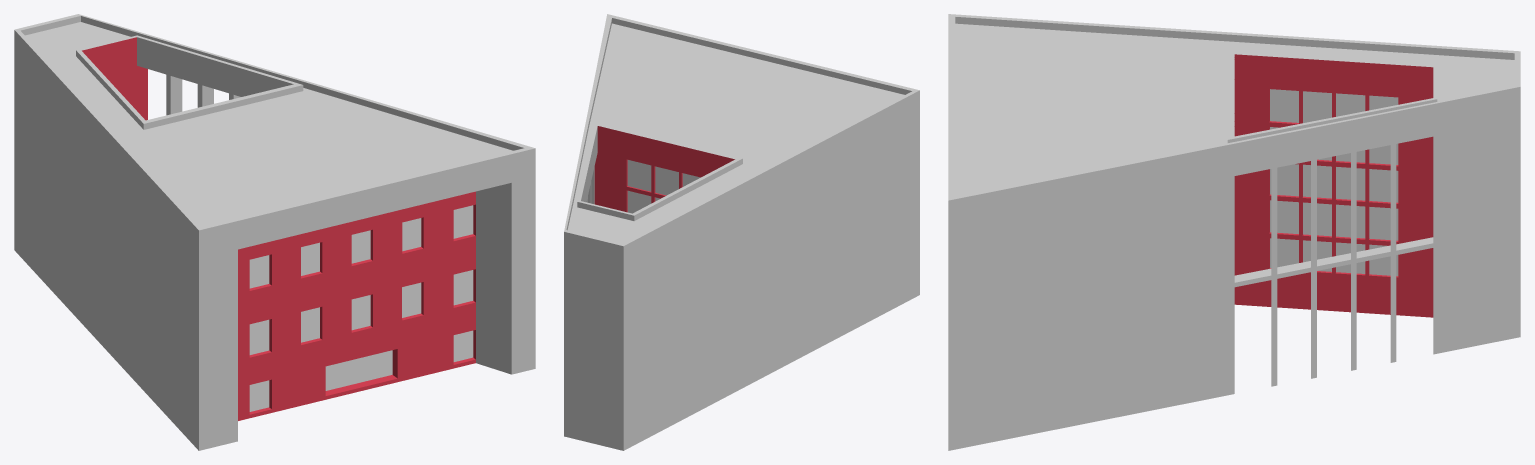
File: 化工楼.fbx
3 renders of one model, left to right at view 1: azimuth 30°, elevation 25°; view 2: azimuth 150°, elevation 25°; view 3: azimuth 270°, elevation 25°, orthographic. The views are drawn at different scales.
Visible parts, largest first — view 1: Cube; view 2: Cube; view 3: Cube.
Boxes of the visible parts, x1=… form: Cube: x1=14, y1=14, x2=535, y2=450; Cube: x1=564, y1=14, x2=919, y2=450; Cube: x1=948, y1=14, x2=1520, y2=450.
Size of the model in its own units: 18.15 by 11.36 by 23.52.
